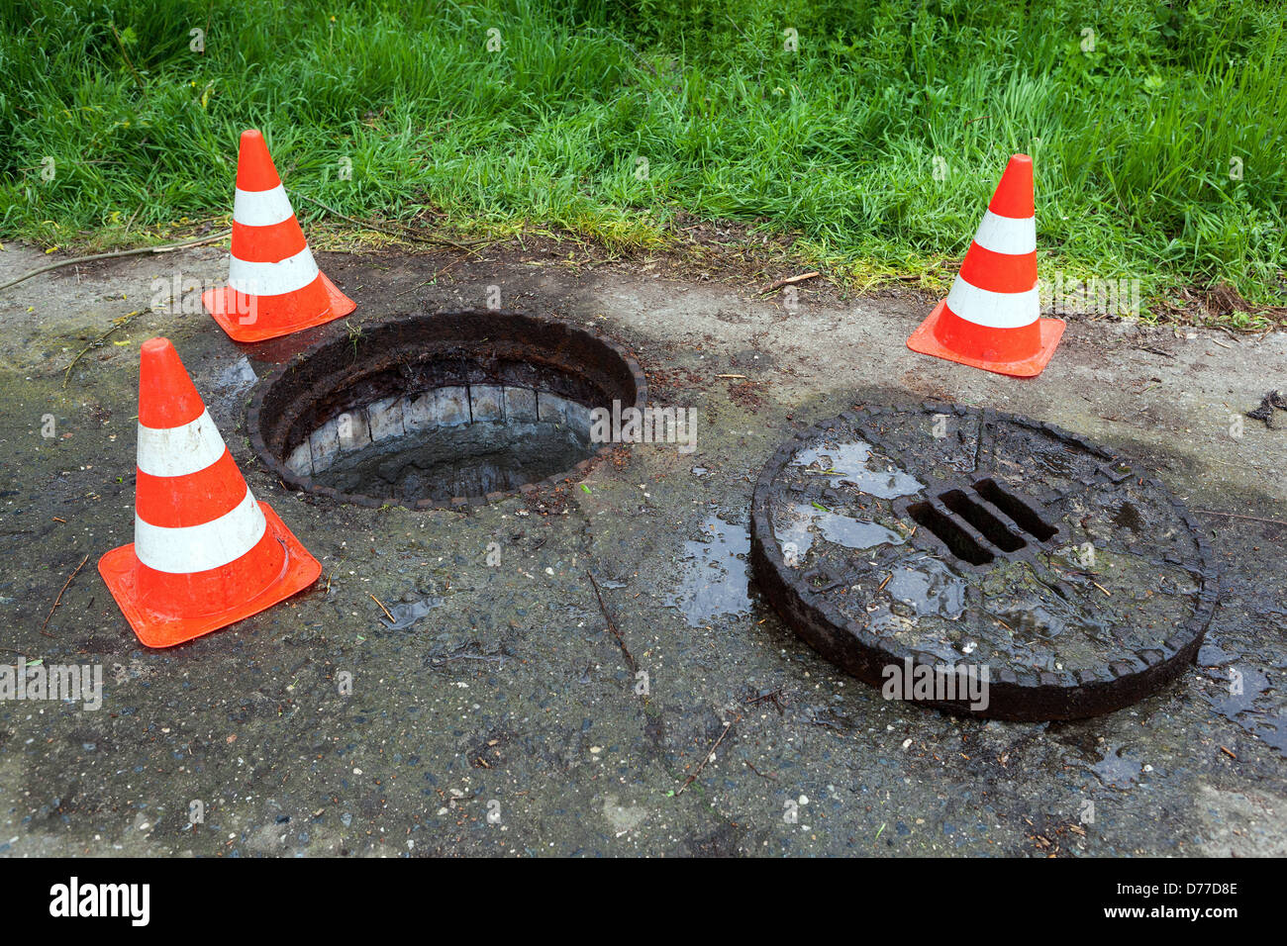Open_manhole: (242, 313, 742, 515)
Road_cone: (89, 333, 328, 646), (191, 129, 371, 344), (915, 143, 1072, 382)
